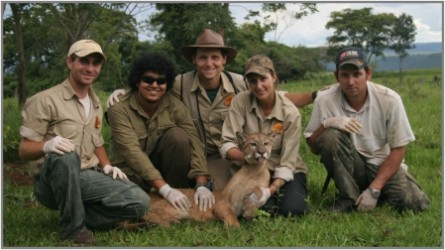OncaParda: (130, 128, 277, 232)
